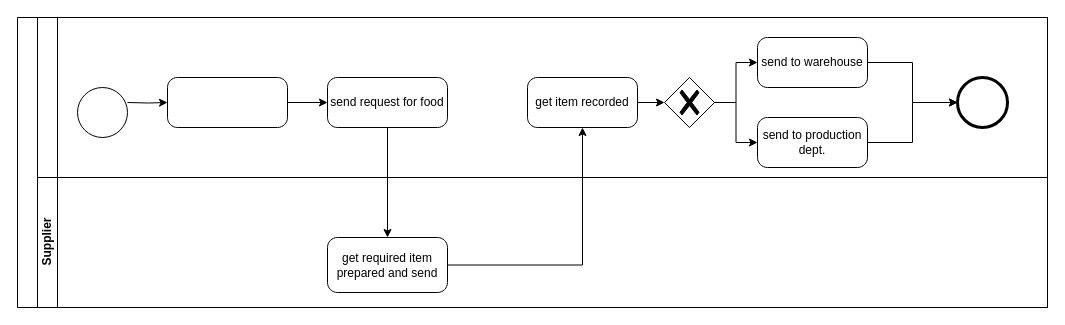
The diagram is 1065 pixels wide and 325 high, and some of its shapes have lost their labels. Here are the shapes that lost their labels. From the top down, the box of each, then its label:
(166, 76, 288, 128): place a food order
(36, 16, 1048, 178): Procurement
(16, 16, 1048, 308): Air Meals PLC
